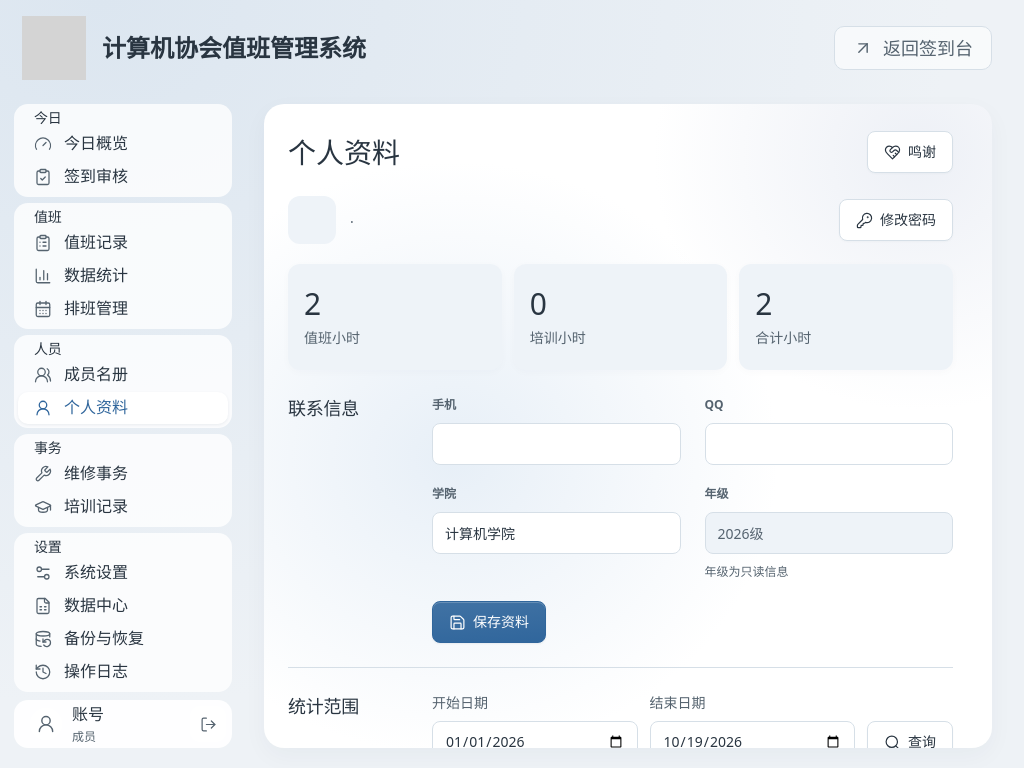
Scenario: ProfilePage request states › keeps the applied range and old records visible when a new query fails
This screenshot has width=1024, height=768.
Expected: the element showing "· 修改密码 2 值班小时 0 培训小时 2 合计小时" is shown, x1=288 y1=196 x2=953 y2=370
In the date field named "profileRecordFrom": (535, 742) x1=432 y1=721 x2=638 y2=763, type "2026-08-01"
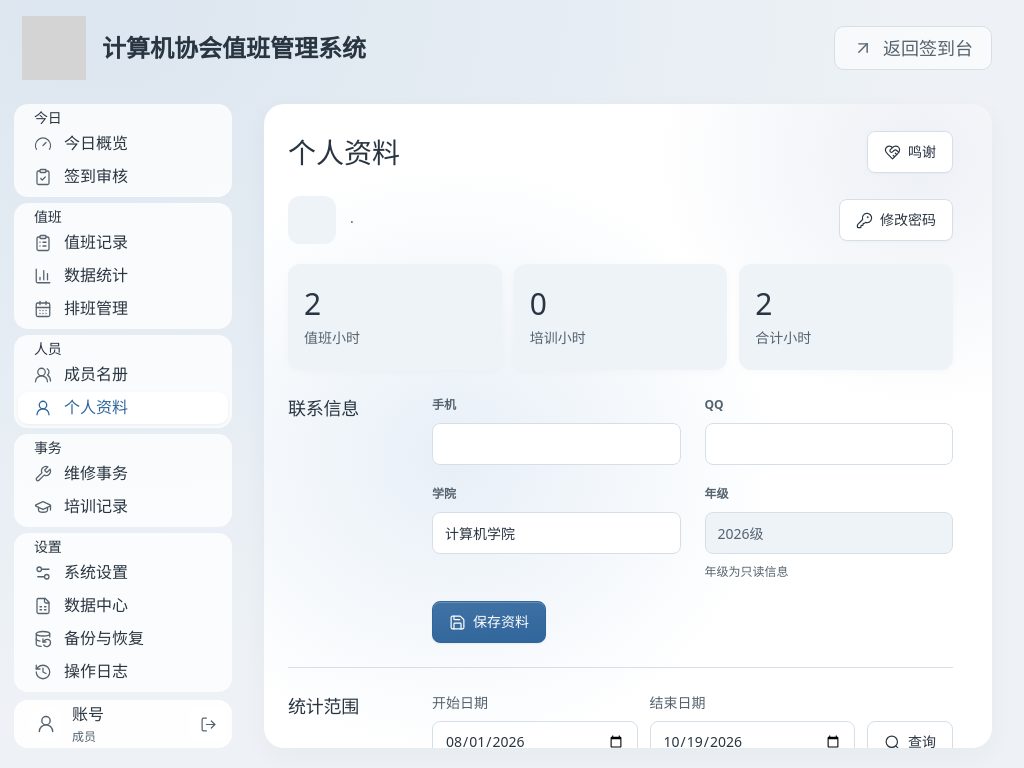
Submit the form "开始日期 结束日期 查询", box x1=432 y1=692 x2=953 y2=763
(page scrolled)
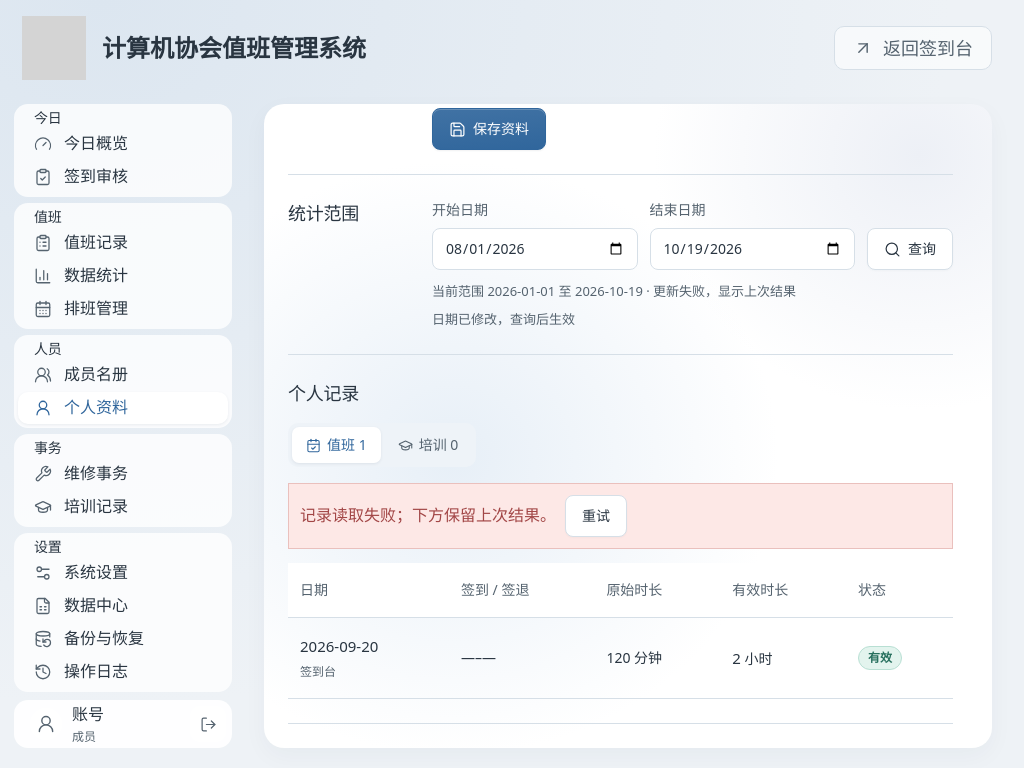
Now the message "记录读取失败；下方保留上次结果。 重试" is shown, box x1=288 y1=483 x2=953 y2=549
Now the element that starts with "统计范围" shows "当前范围", box x1=432 y1=282 x2=643 y2=300
Now the row "2026-09-20 签到台 —–— 120 分钟 2 小时 有效" is shown, box x1=288 y1=618 x2=953 y2=698
